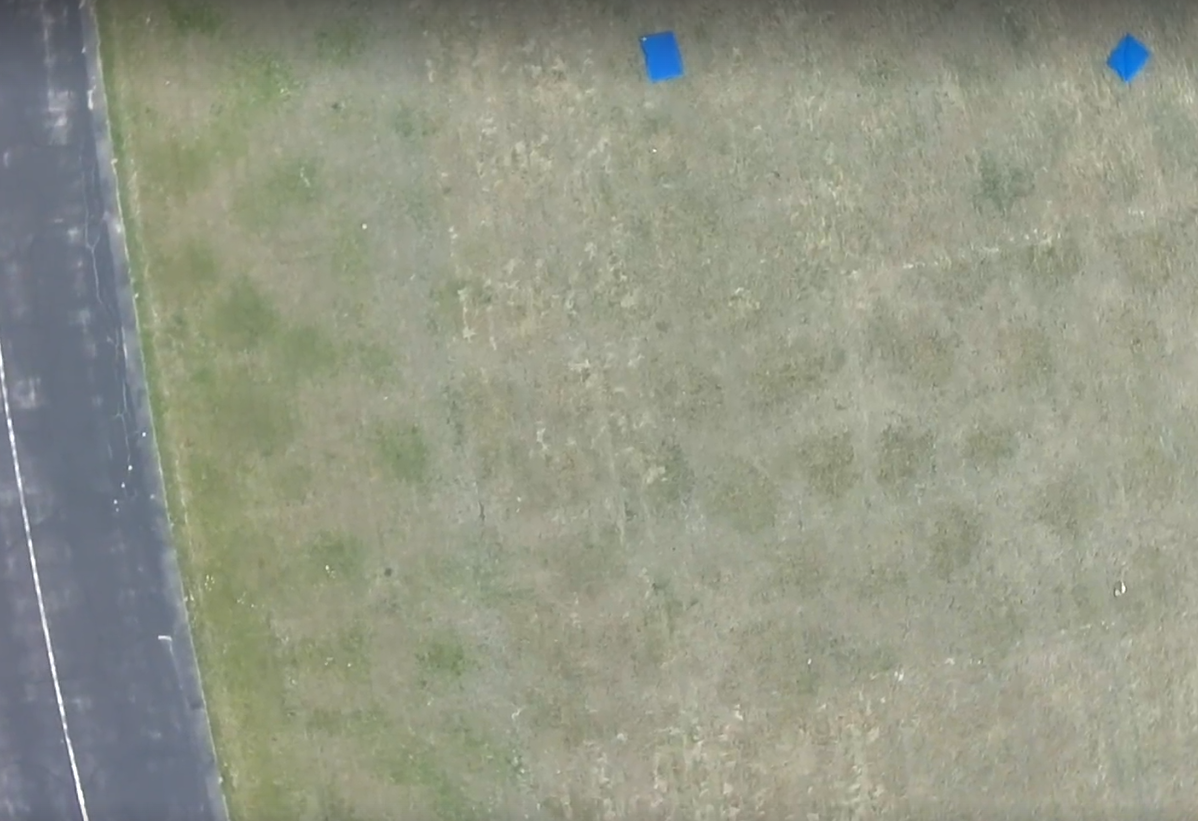TOI: (1102, 31, 1152, 84), (637, 29, 686, 83)
